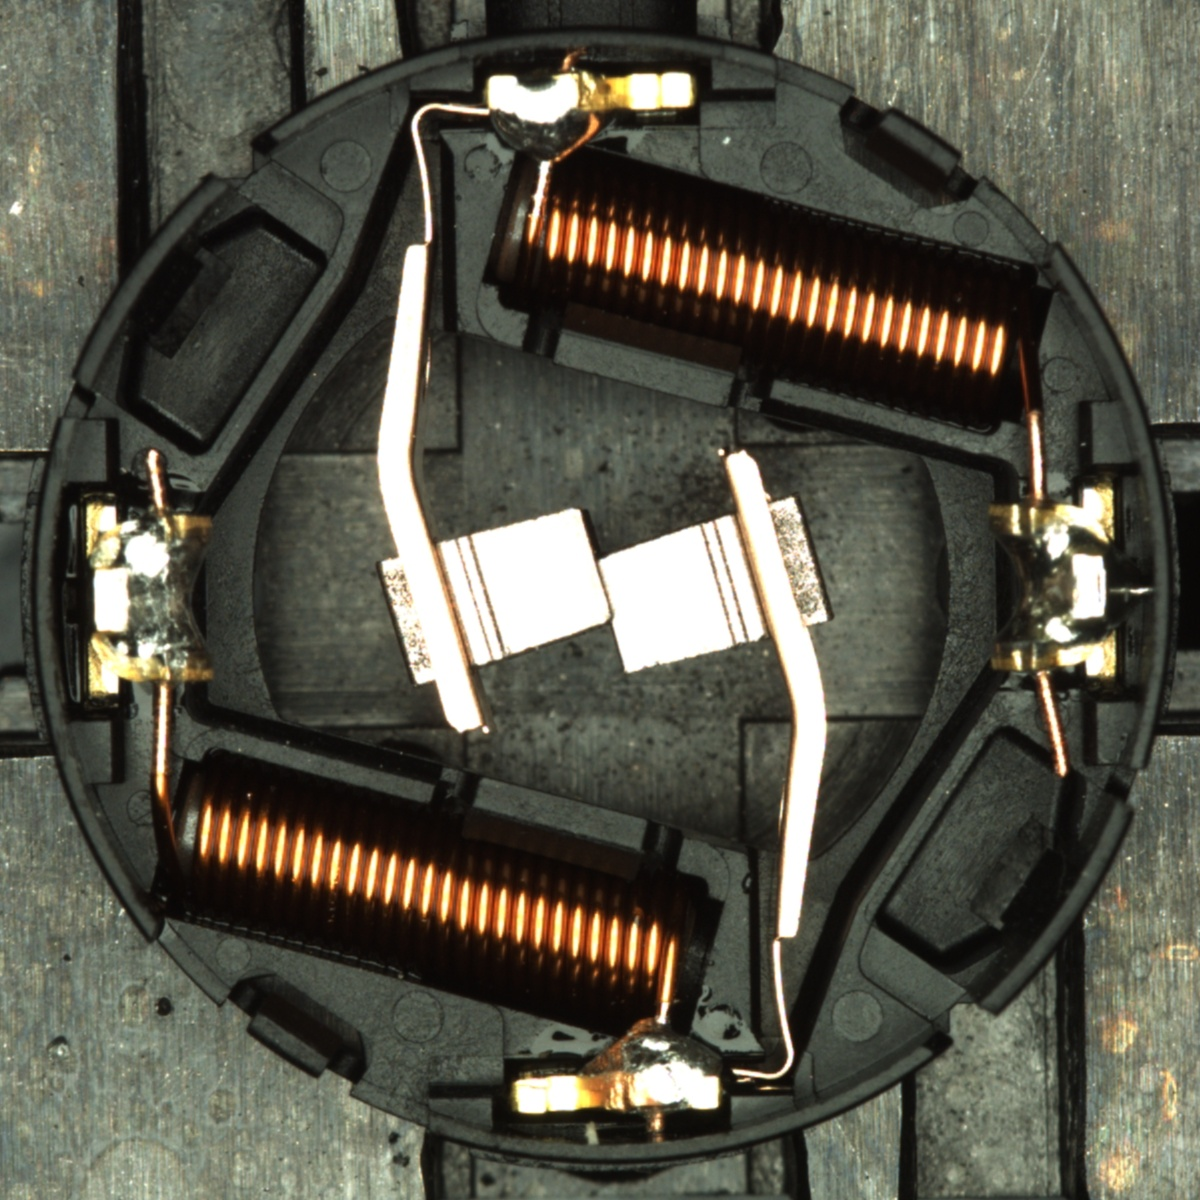1: (256, 29, 486, 254), (714, 926, 944, 1151)
2: (714, 29, 944, 254), (256, 926, 486, 1151)
3: (27, 254, 256, 478), (944, 702, 1173, 926)
4: (256, 254, 486, 478), (714, 702, 944, 926)
5: (486, 141, 714, 366), (486, 814, 714, 1038)
6: (714, 254, 944, 478), (256, 702, 486, 926)
7: (944, 254, 1173, 478), (27, 702, 256, 926)
cacbon: (400, 496, 800, 684)
chau_dien: (78, 498, 220, 699), (982, 485, 1121, 684)
tay_choi: (508, 1016, 724, 1118), (484, 67, 698, 166)
thanh_de: (958, 782, 1144, 1031), (60, 165, 244, 404)
vun_chi: (1110, 560, 1159, 622)
